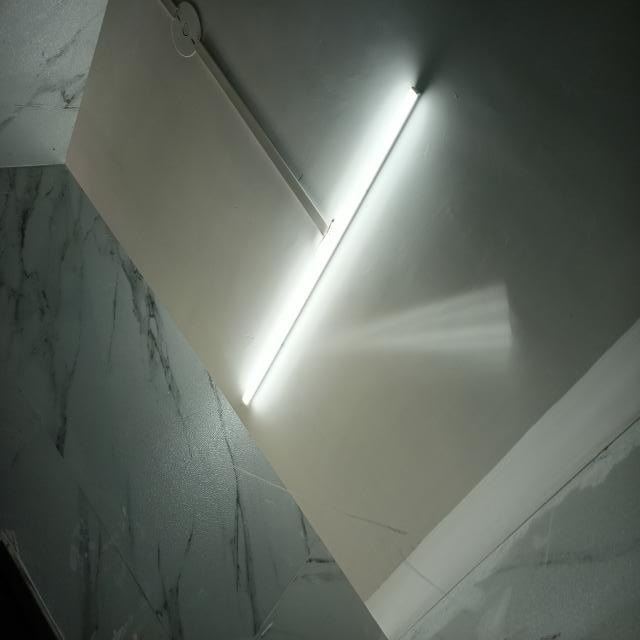fluorescent tube: (242, 87, 420, 405)
